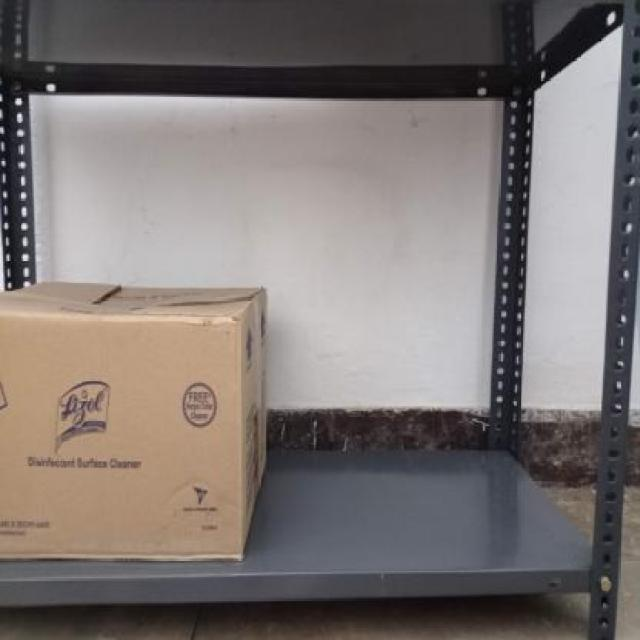box: (0, 316, 242, 562)
